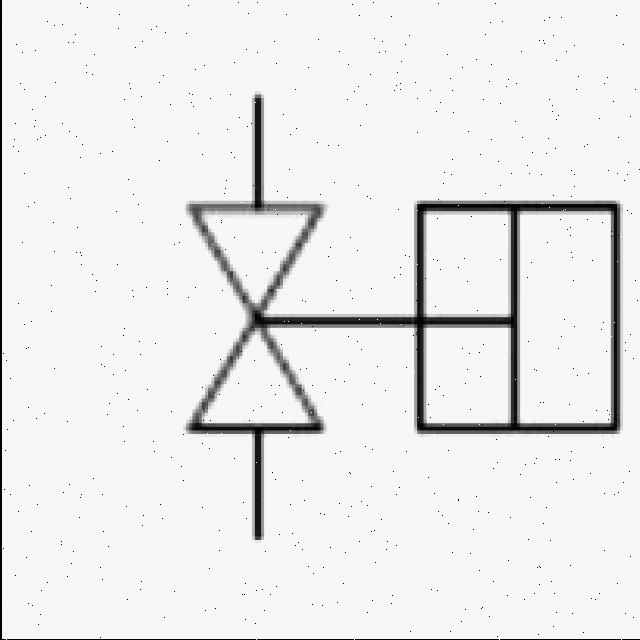Rotary Piston-Pneumatic Gate Valve: (138, 72, 632, 526)
